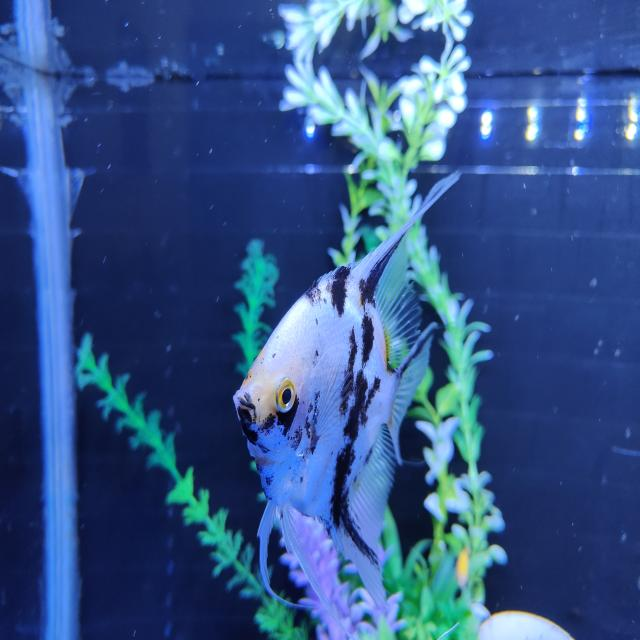Fish: (234, 174, 459, 611)
